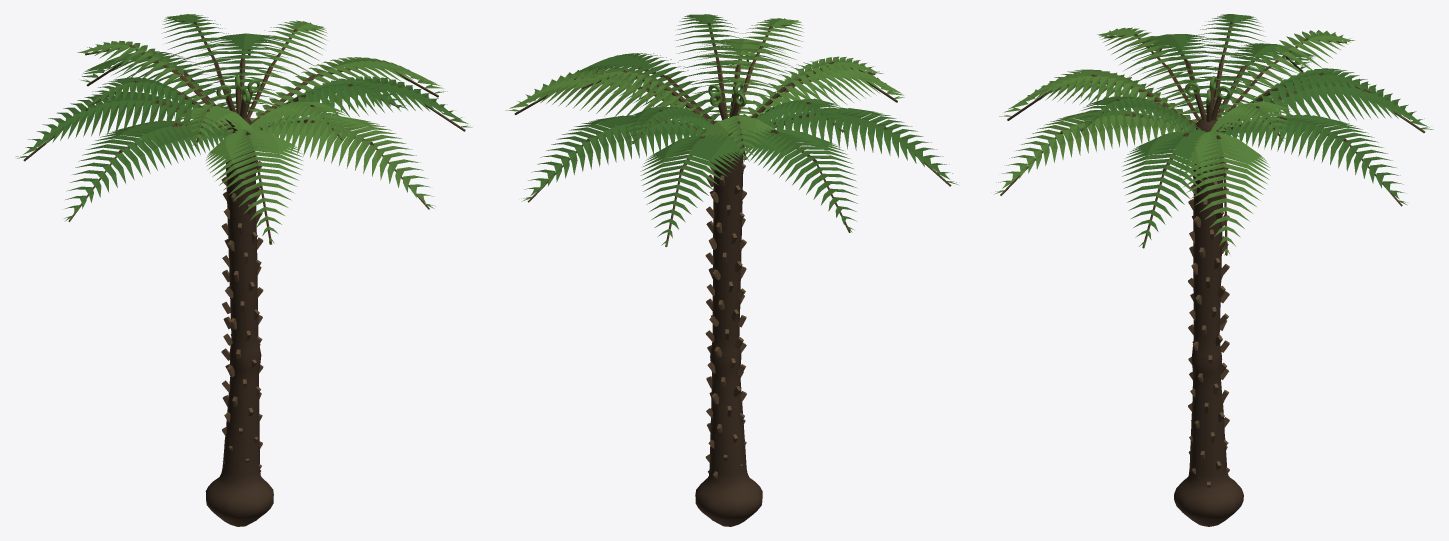
Rendered from treefern.glb.
3 views of the same model, side by side, from view 1: azimuth 30°, elevation 25°; view 2: azimuth 150°, elevation 25°; view 3: azimuth 270°, elevation 25° (orthographic).
Parts seen in each view (by area): view 1: trunk_0, leaf_147, leaf2_175, leaf2_161, leaf_133, leaf2_91, leaf_182, leaf2_98, leaf_105, leaf_140, leaf2_126, leaf_112 (+4 smaller); view 2: trunk_0, leaf_105, leaf_119, leaf_133, leaf_147, leaf2_91, leaf_189, leaf2_154, leaf2_161, leaf_182, leaf2_168, leaf2_175 (+4 smaller); view 3: trunk_0, leaf_105, leaf2_91, leaf2_175, leaf_189, leaf_119, leaf2_126, leaf_147, leaf_112, leaf2_168, leaf_182, leaf2_154 (+4 smaller).
Part boxes in pixels (box(x1,y1,x2,y2)): trunk_0: box(205, 118, 273, 526); leaf_147: box(64, 120, 232, 221); leaf2_175: box(256, 115, 435, 208); leaf2_161: box(205, 129, 303, 244); leaf_133: box(15, 91, 213, 158); leaf2_91: box(251, 57, 447, 121); leaf_182: box(262, 79, 406, 129); leaf2_98: box(242, 20, 327, 120); leaf_105: box(198, 33, 289, 118); leaf_140: box(86, 77, 227, 129); leaf2_126: box(77, 41, 213, 121); leaf_112: box(162, 14, 241, 109); trunk_0: box(695, 138, 762, 526); leaf_105: box(521, 115, 703, 201); leaf_119: box(640, 134, 742, 246); leaf_133: box(732, 129, 857, 232); leaf_147: box(768, 107, 958, 184); leaf2_91: box(505, 67, 709, 124); leaf_189: box(573, 53, 718, 128); leaf2_154: box(749, 56, 883, 119); leaf2_161: box(742, 60, 904, 117); leaf_182: box(675, 14, 747, 122); leaf2_168: box(726, 18, 803, 113); leaf2_175: box(694, 39, 787, 117); trunk_0: box(1174, 118, 1243, 526); leaf_105: box(1218, 114, 1407, 205); leaf2_91: box(1174, 131, 1270, 255); leaf2_175: box(994, 110, 1187, 194); leaf_189: box(1122, 130, 1224, 248); leaf_119: box(1237, 78, 1433, 137); leaf2_126: box(1217, 30, 1355, 119); leaf_147: box(1129, 34, 1227, 120); leaf_112: box(1222, 68, 1378, 135); leaf2_168: box(1036, 69, 1196, 130); leaf_182: box(1076, 96, 1200, 132); leaf2_154: box(1097, 27, 1201, 122).
Bounding box in the file's own units: 4.73 × 4.89 × 4.3.
